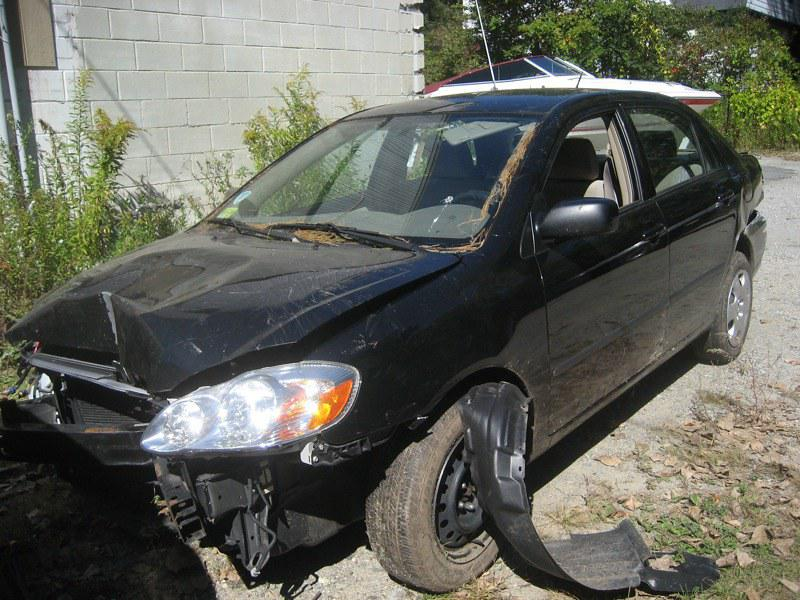bonnet-dent: (31, 223, 342, 364)
front-bumper-dent: (55, 397, 256, 539)
